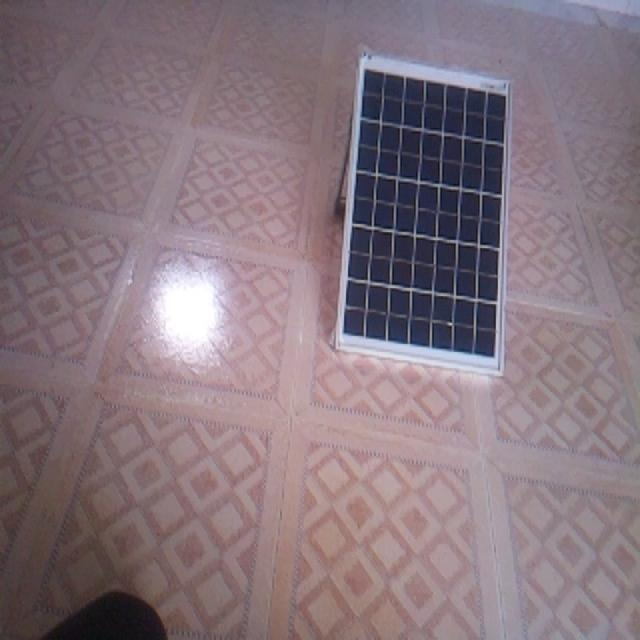Normal Solar Panel: (338, 51, 512, 375)
